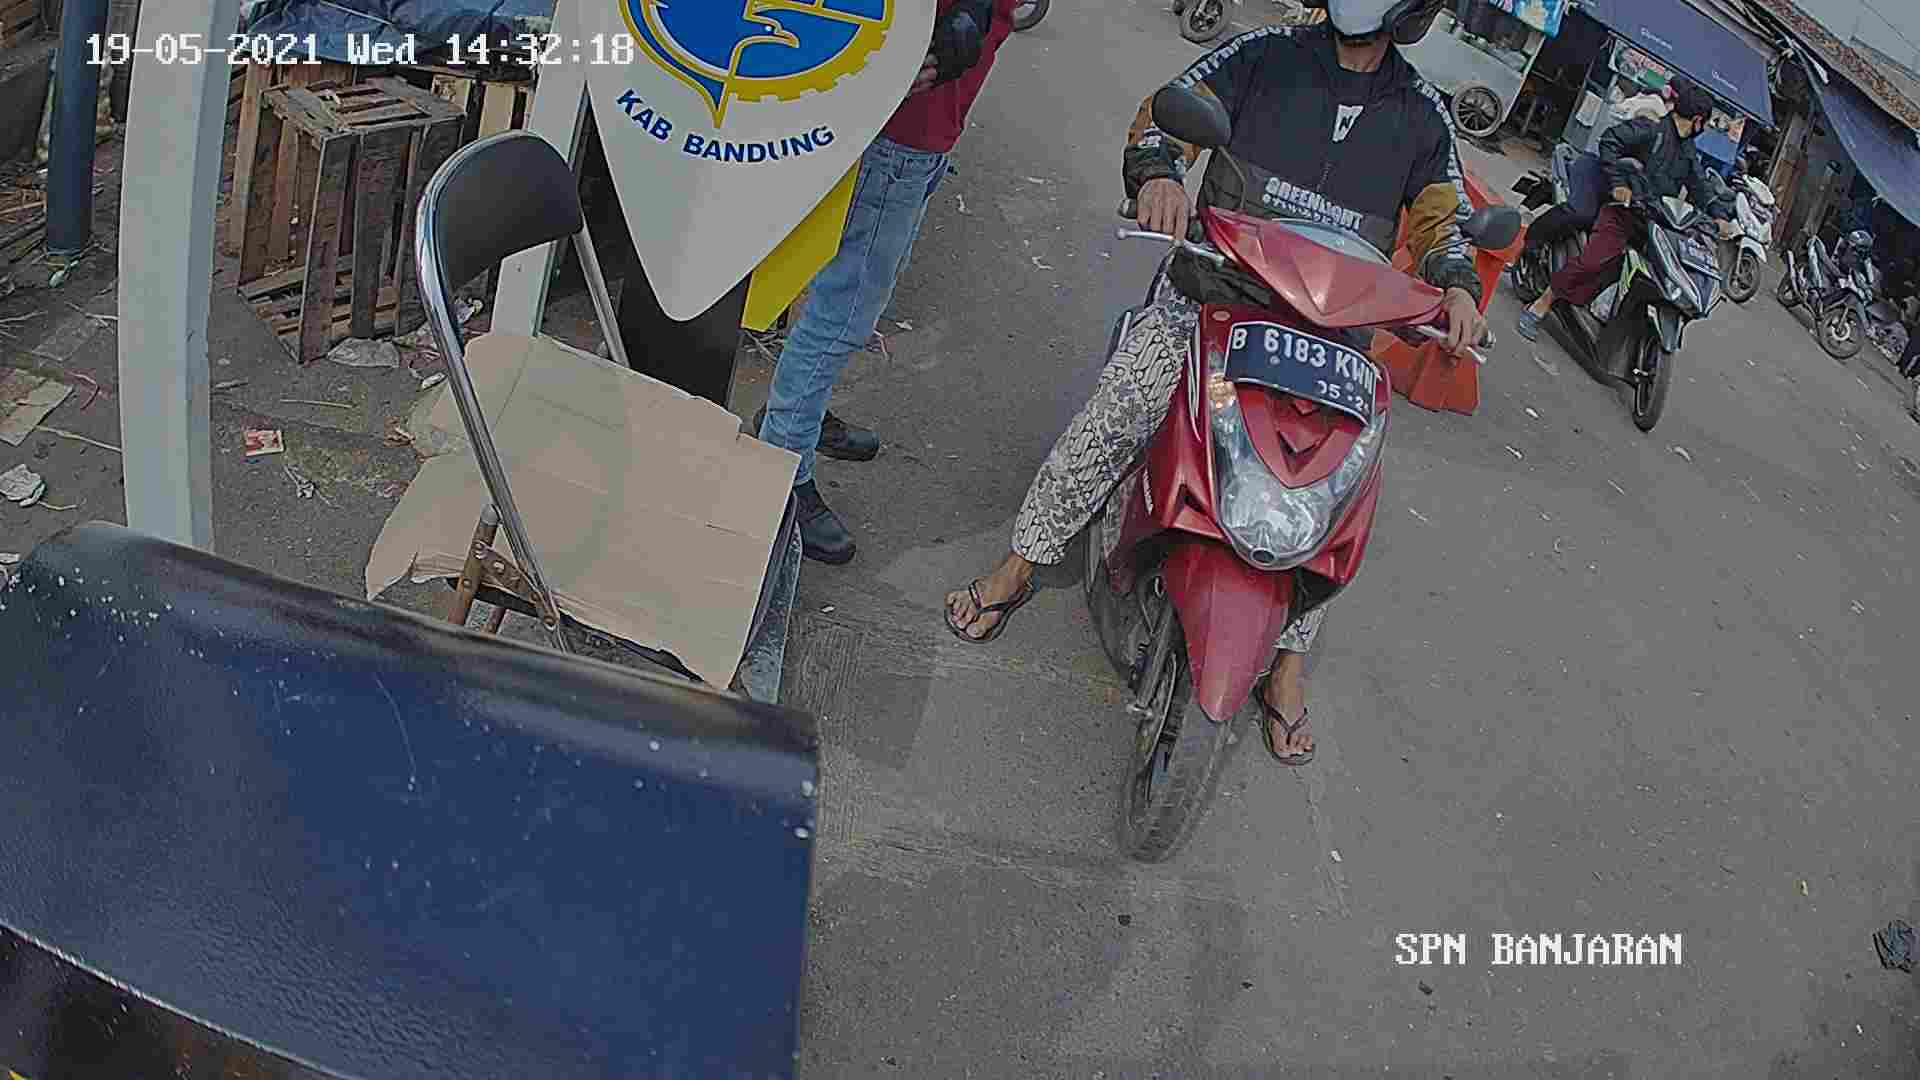motor: (1095, 158, 1414, 935)
